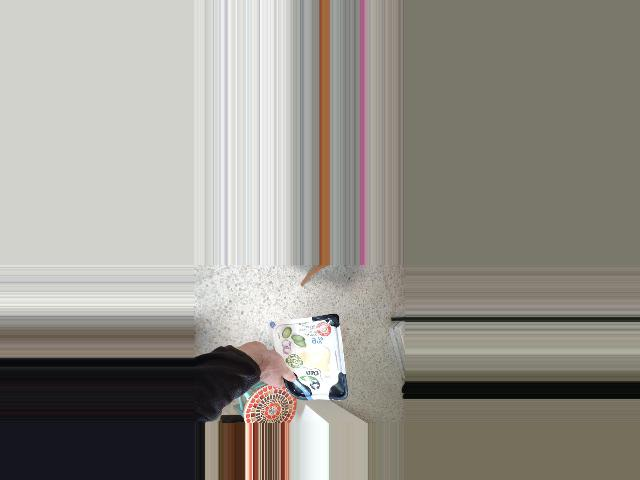cheese: (257, 315, 323, 388)
